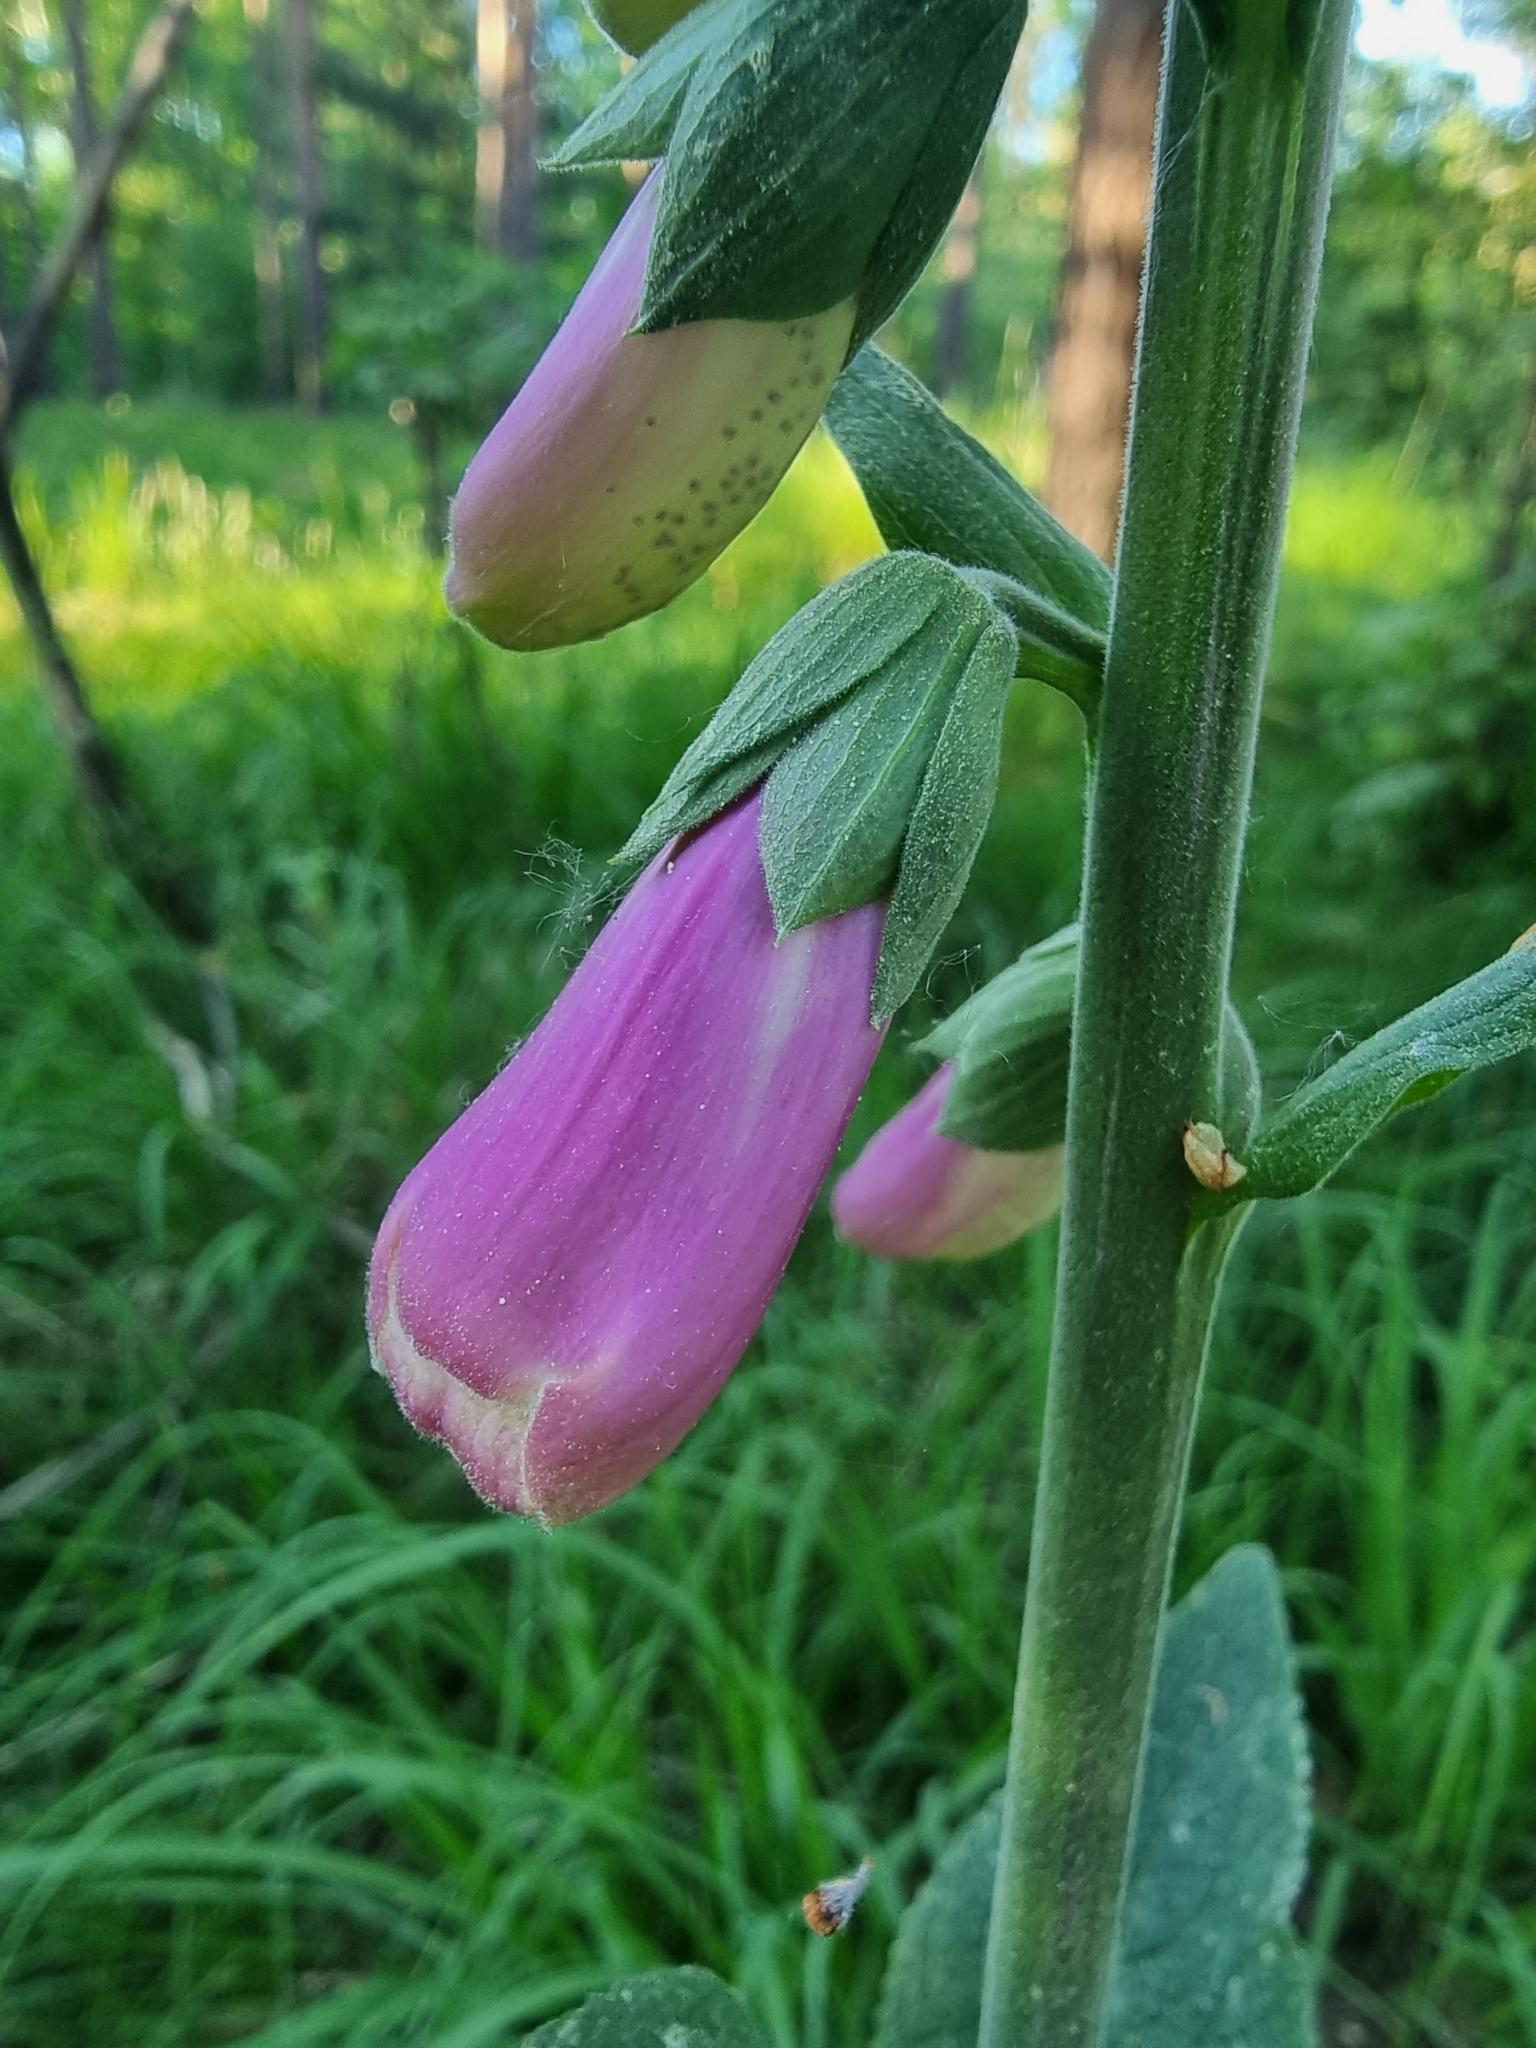Digitalis L: (323, 539, 1079, 1538), (282, 16, 1083, 576)
